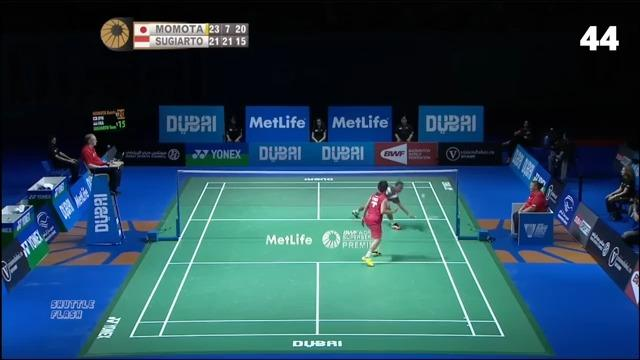Shuttlecock: (418, 192, 428, 200)
